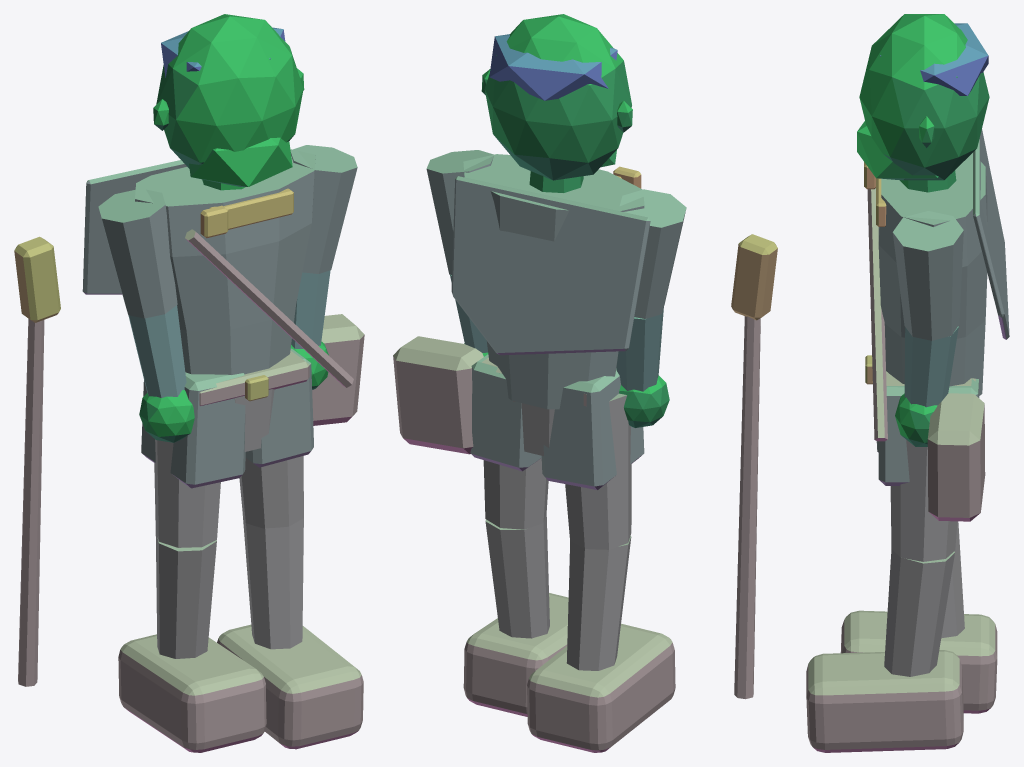
File: npc_scout_contact_r_v01.glb
The picture shows the model from 3 angles, left to right: view 1: azimuth 30°, elevation 25°; view 2: azimuth 150°, elevation 25°; view 3: azimuth 270°, elevation 25°; orthographic projection.
Parts seen in each view (by area): view 1: GEO_npc_scout_contact_r_v01; view 2: GEO_npc_scout_contact_r_v01; view 3: GEO_npc_scout_contact_r_v01.
Part boxes in pixels (x1,y1,x2,y2): GEO_npc_scout_contact_r_v01: [14, 14, 364, 752]; GEO_npc_scout_contact_r_v01: [393, 14, 777, 752]; GEO_npc_scout_contact_r_v01: [806, 14, 1009, 752].
Size of the model in its own units: 1.1 by 2.06 by 0.5401.
